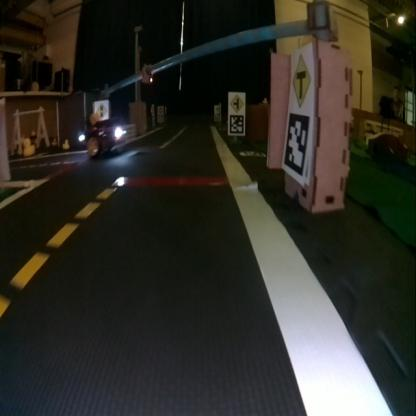Duckie: (22, 139, 35, 155), (62, 139, 69, 148)
Duckiebot: (78, 123, 124, 156)
Intersection sign: (229, 91, 244, 110)
QR code: (283, 114, 310, 182), (227, 118, 244, 134)
Signal sign: (94, 99, 109, 119)
Traffic light: (142, 62, 152, 82)
